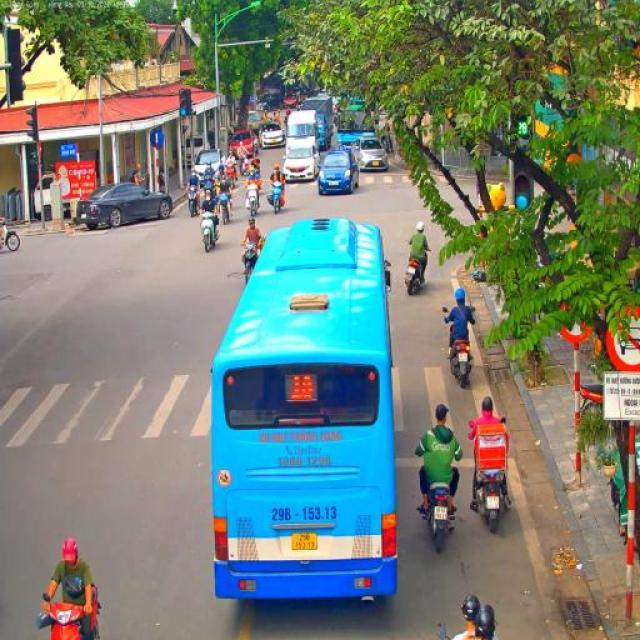bus: (210, 214, 398, 607), (333, 102, 378, 152)
car: (76, 182, 174, 229), (317, 149, 359, 197), (282, 144, 321, 185), (353, 137, 389, 173), (194, 147, 226, 187), (228, 130, 258, 161), (260, 120, 286, 149)
motorcycle: (34, 590, 102, 640), (469, 464, 512, 534), (417, 478, 457, 553), (443, 306, 476, 389), (198, 210, 221, 252), (578, 382, 604, 418), (241, 240, 261, 286), (404, 256, 427, 295), (0, 216, 21, 252), (244, 180, 260, 218), (268, 180, 284, 214), (216, 193, 232, 225), (187, 186, 199, 218), (204, 176, 215, 202), (226, 166, 237, 188), (237, 155, 248, 176), (382, 134, 392, 154)
truck: (284, 110, 328, 160), (302, 96, 334, 152), (246, 110, 264, 140), (282, 91, 298, 111)
